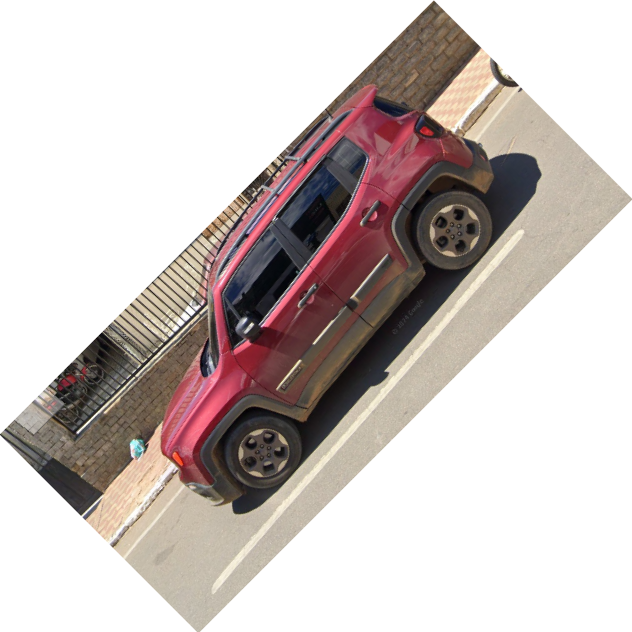car: (157, 81, 503, 524)
